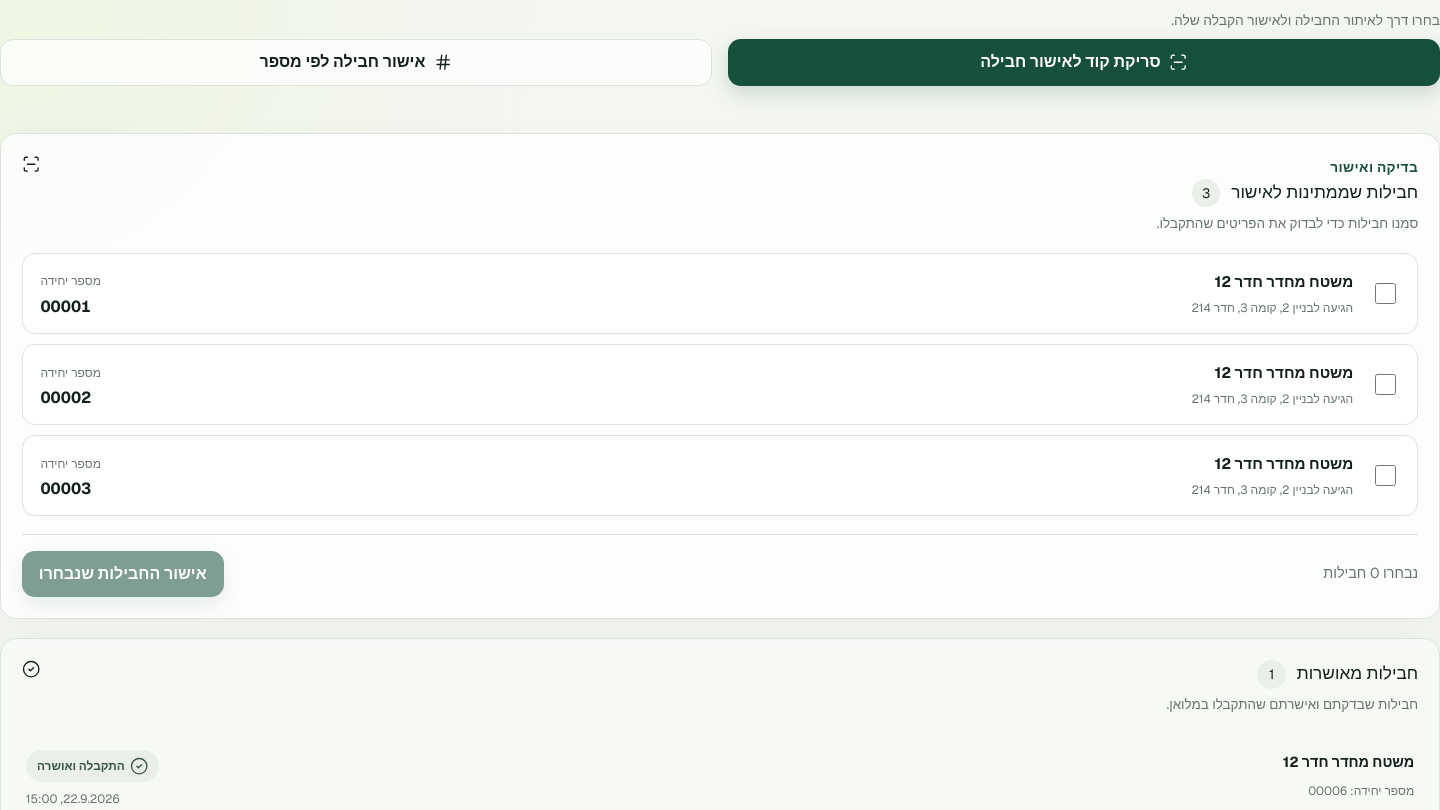
Test: package pickup › reviews every item in a batch and confirms it
Click the checkbox named "בחירת חבילה 00001". click: point(1386, 293)
box: 1375,283 -> 1396,304
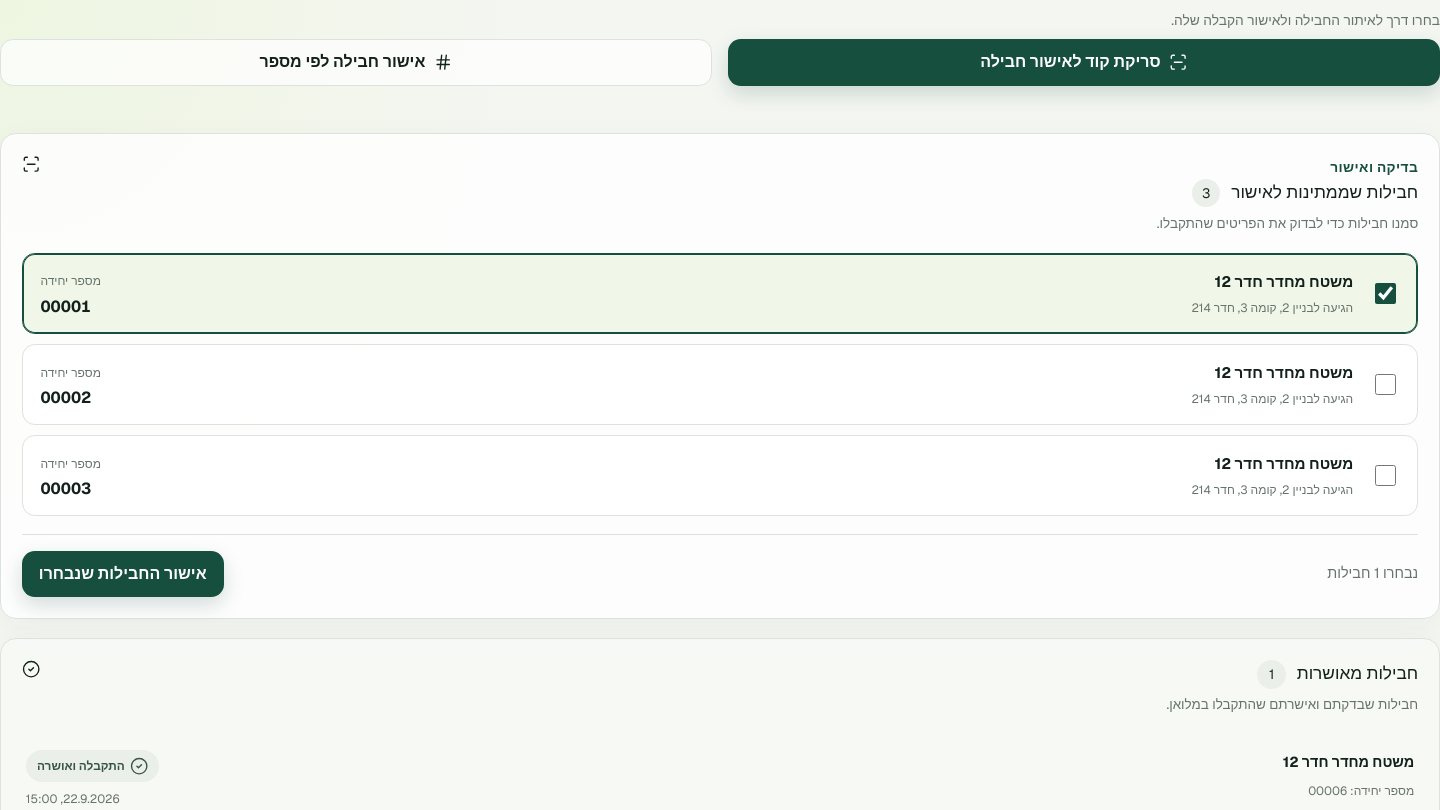
Click the checkbox named "בחירת חבילה 00002". click: point(1386, 384)
box: 1375,374 -> 1396,395
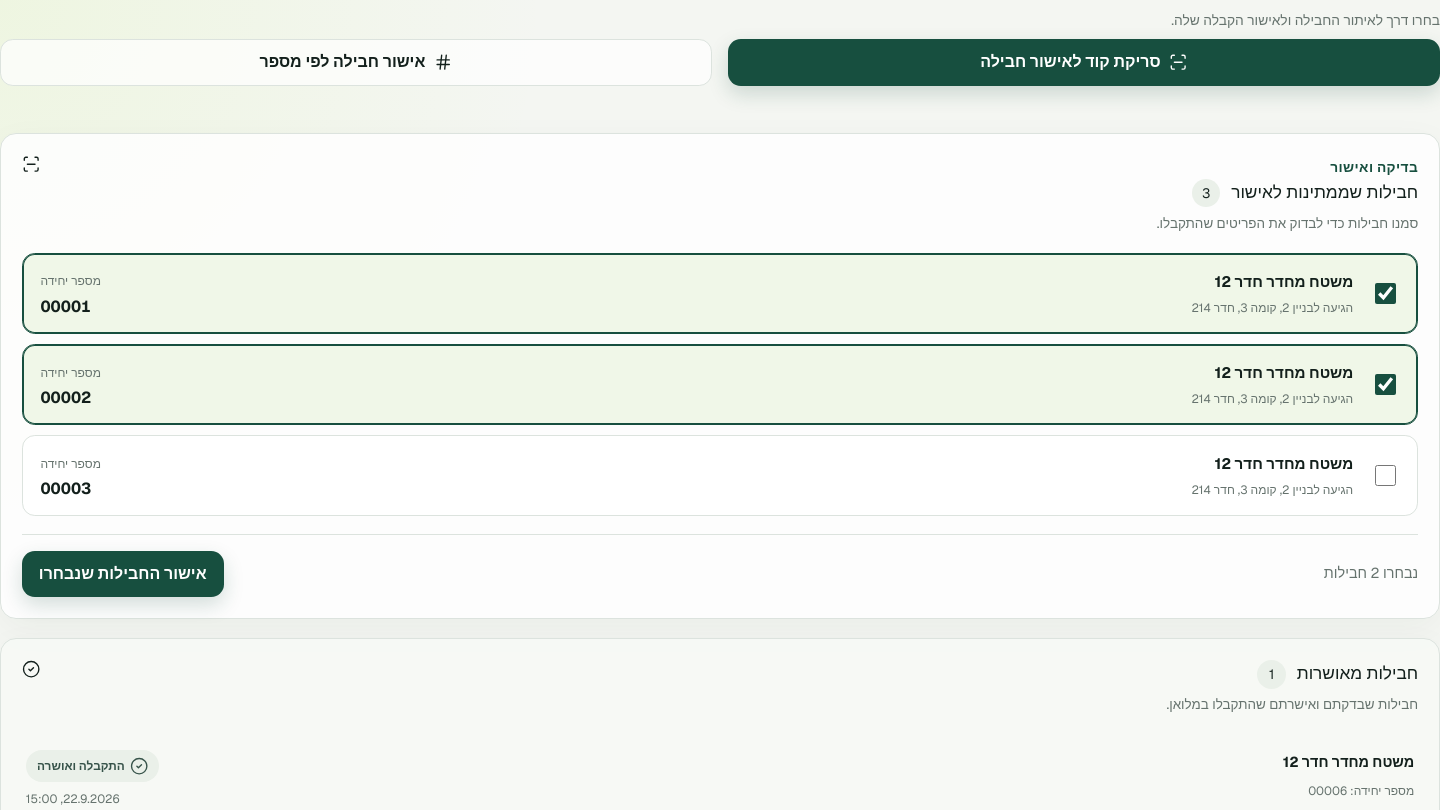
Check: the text "נבחרו 2 חבילות" is shown, box 1324,563 -> 1418,585
Click the button "אישור החבילות שנבחרו". click: point(123, 574)
box: 22,551 -> 224,598
(page scrolled)
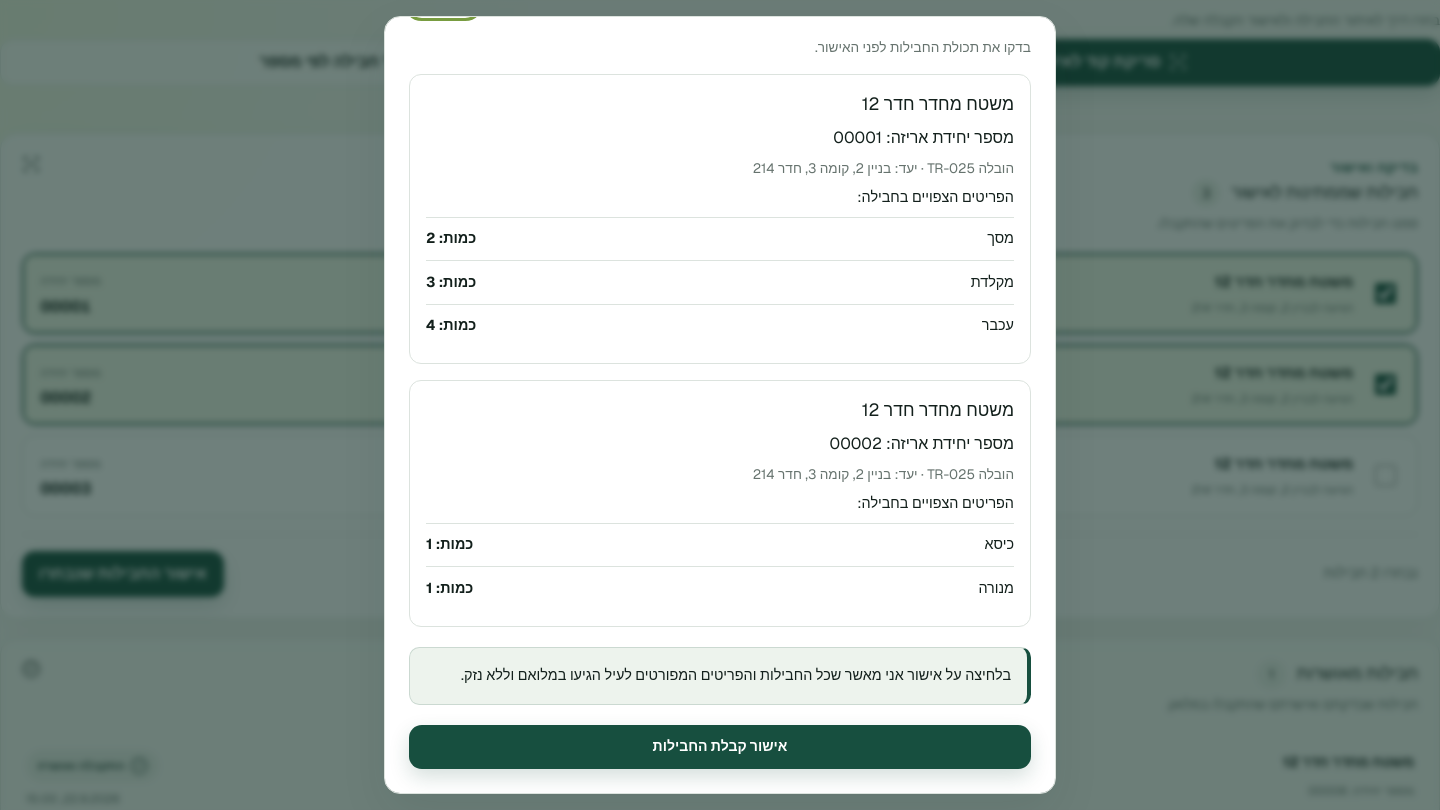
Click the button "אישור קבלת החבילות". click: point(720, 746)
box: 409,724 -> 1031,768
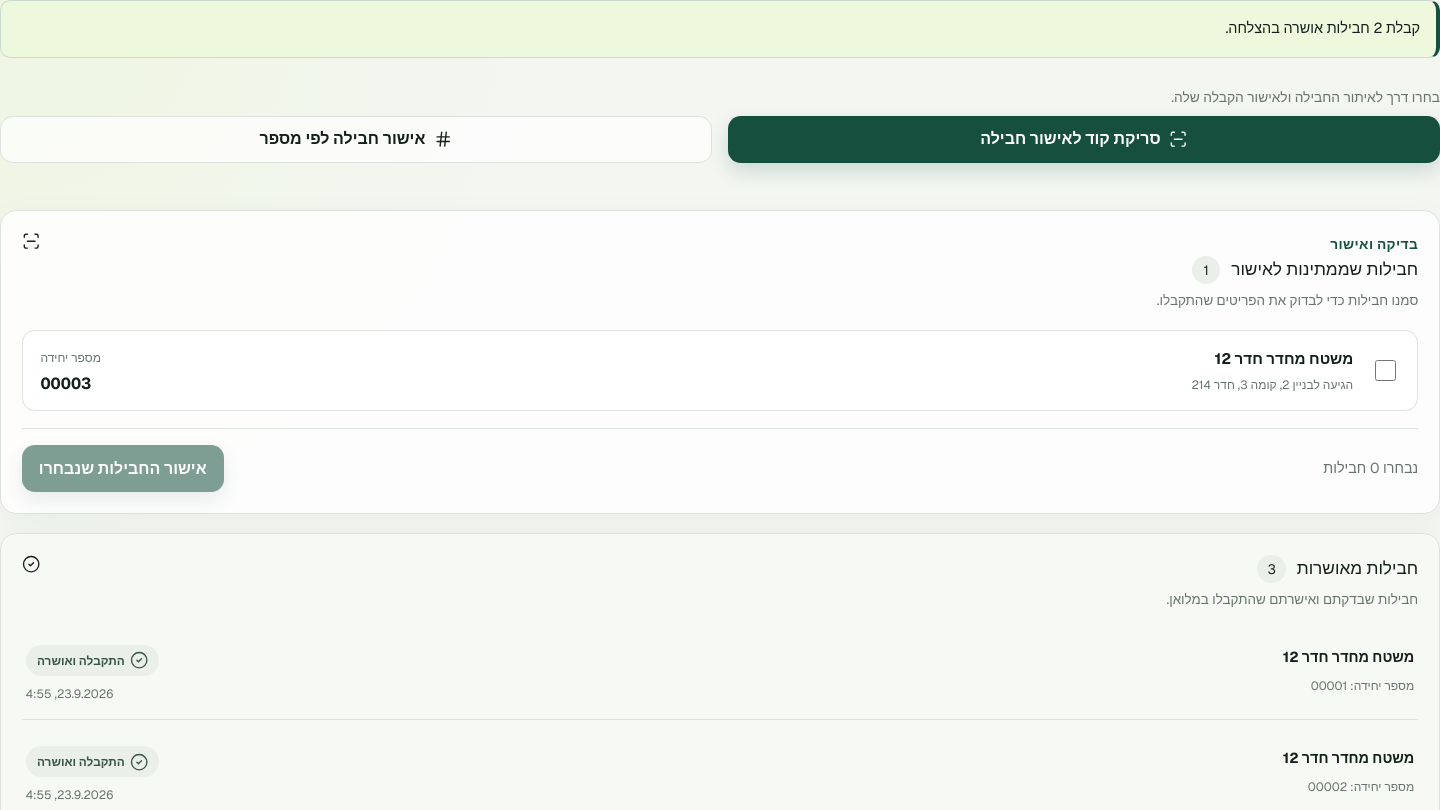
Check: the text "קבלת 2 חבילות אושרה בהצלחה." is shown, box 0,0 -> 1439,58
Check: the number of checkboxes is 1, box 1375,360 -> 1396,381
